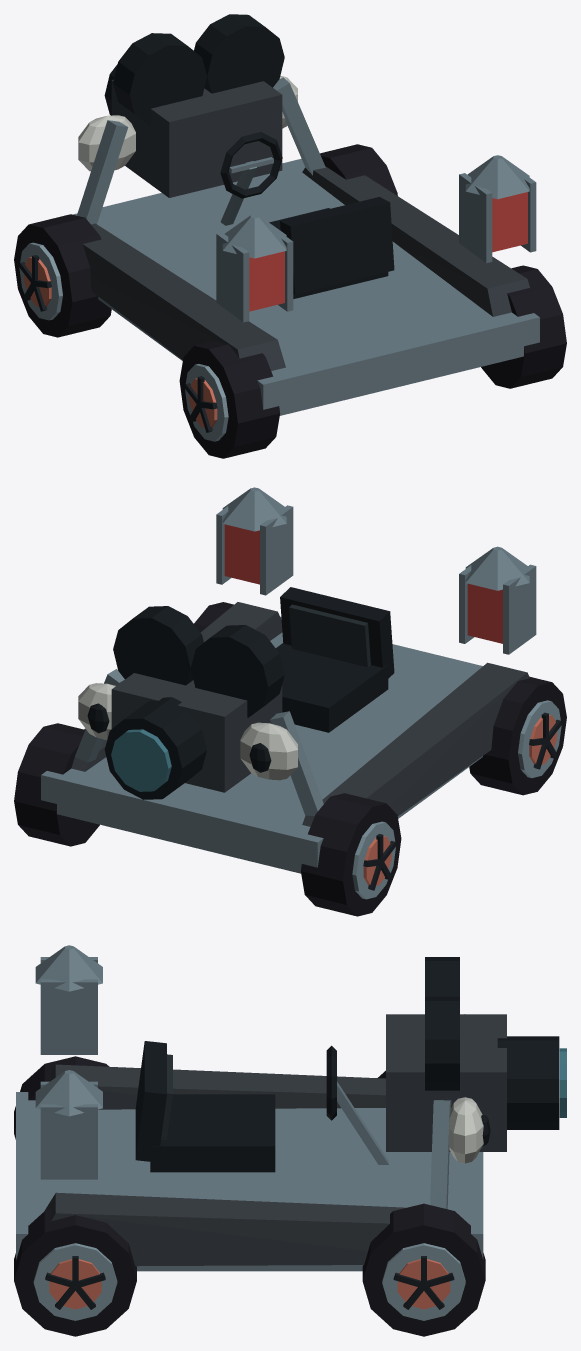
Rendered from kart.glb.
3 renders of one model, top to bottom at view 1: azimuth 30°, elevation 25°; view 2: azimuth 150°, elevation 25°; view 3: azimuth 270°, elevation 25°, orthographic. The views are drawn at different scales.
Visible parts, largest first — view 1: identity-camera-rig-camera-dolly-and-lens, identity-camera-rig-motif-lanterns, identity-camera-rig-driver-cockpit, wheel-rear-left, wheel-front-left, wheel-rear-right, wheel-front-right, identity-camera-rig-motif-eyes; view 2: identity-camera-rig-camera-dolly-and-lens, identity-camera-rig-motif-lanterns, identity-camera-rig-driver-cockpit, wheel-front-left, wheel-rear-left, wheel-front-right, identity-camera-rig-motif-eyes, wheel-rear-right; view 3: identity-camera-rig-camera-dolly-and-lens, identity-camera-rig-driver-cockpit, wheel-front-right, identity-camera-rig-motif-lanterns, wheel-rear-right, identity-camera-rig-motif-eyes, wheel-rear-left.
Boxes of the visible parts, x1,y1,x2,y2 form: identity-camera-rig-camera-dolly-and-lens: (73, 14, 539, 415); identity-camera-rig-motif-lanterns: (216, 155, 536, 322); identity-camera-rig-driver-cockpit: (220, 132, 394, 298); wheel-rear-left: (179, 341, 280, 458); wheel-front-left: (14, 214, 111, 337); wheel-rear-right: (481, 265, 566, 388); wheel-front-right: (320, 144, 397, 195); identity-camera-rig-motif-eyes: (78, 75, 297, 171); identity-camera-rig-camera-dolly-and-lens: (41, 602, 529, 873); identity-camera-rig-motif-lanterns: (216, 487, 536, 654); identity-camera-rig-driver-cockpit: (276, 587, 394, 732); wheel-front-left: (301, 793, 401, 916); wheel-rear-left: (469, 677, 566, 795); wheel-front-right: (14, 723, 99, 846); identity-camera-rig-motif-eyes: (78, 683, 297, 780); wheel-rear-right: (194, 602, 233, 632); identity-camera-rig-camera-dolly-and-lens: (16, 957, 566, 1271); identity-camera-rig-driver-cockpit: (135, 1041, 388, 1172); wheel-front-right: (362, 1203, 485, 1336); identity-camera-rig-motif-lanterns: (35, 945, 102, 1179); wheel-rear-right: (14, 1209, 136, 1336); identity-camera-rig-motif-eyes: (449, 1014, 490, 1163); wheel-rear-left: (14, 1056, 108, 1139).
Size of the model in its own units: 2.07 by 1.46 by 2.7.
